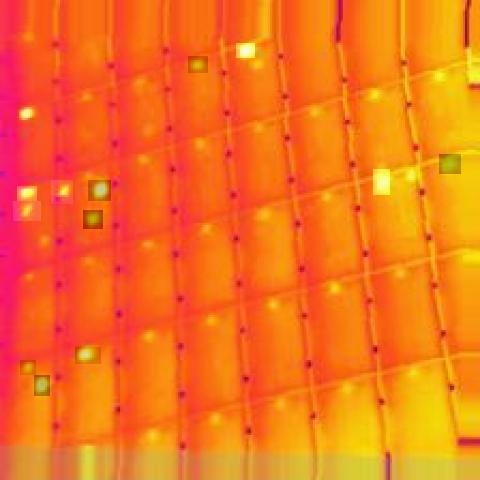fault: (13, 201, 41, 221), (51, 180, 73, 204), (88, 180, 111, 201), (75, 347, 101, 364), (373, 169, 390, 195), (439, 154, 461, 174), (83, 210, 103, 229), (15, 105, 34, 124), (188, 56, 208, 73), (34, 375, 50, 396), (17, 186, 37, 202), (236, 43, 255, 58), (20, 360, 36, 375)
